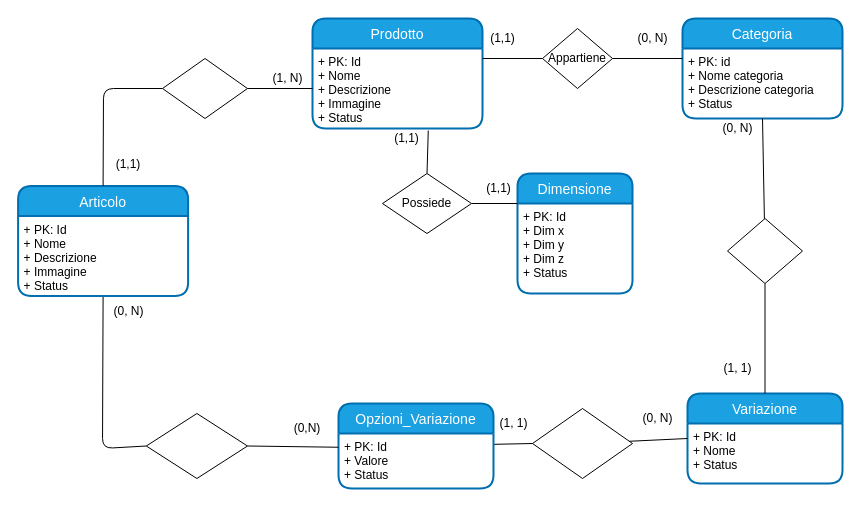
The diagram is 861 pixels wide and 506 high, and some of its shapes have lost their labels. Here are the shapes that lost their labels. From the top down, the centre of each, then its label:
the point at 205,88: Riferisce
the point at 764,251: Appertiene
the point at 196,445: Si configura
the point at 582,443: Composto
